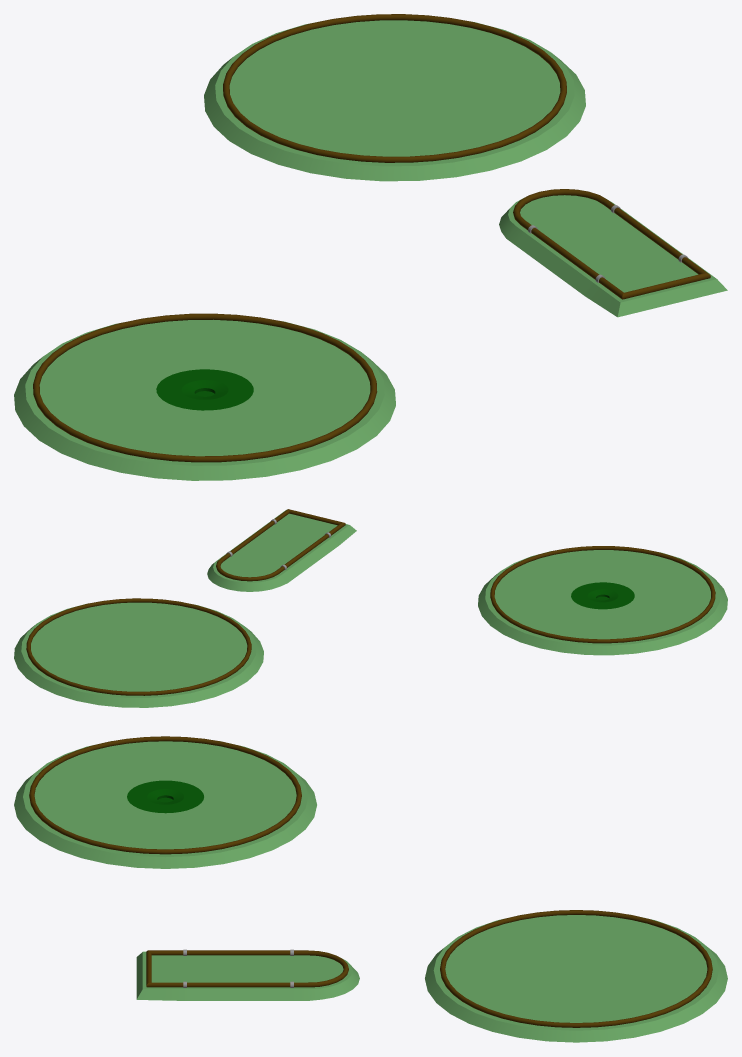
Rendered from Hole05.FBX.
The picture shows the model from 3 angles, top to bottom: view 1: azimuth 30°, elevation 25°; view 2: azimuth 150°, elevation 25°; view 3: azimuth 270°, elevation 25°; orthographic projection. The views are drawn at different scales.
Parts seen in each view (by area): view 1: Course05; view 2: Course05; view 3: Course05.
Part boxes in pixels (left/top/right/bottom): Course05: left=14, top=14, right=727, bottom=480; Course05: left=14, top=509, right=727, bottom=707; Course05: left=14, top=736, right=727, bottom=1042.
Size of the model in its own units: 4003 by 78.27 by 4003.
